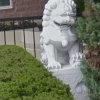Statue: (33, 1, 86, 78)
